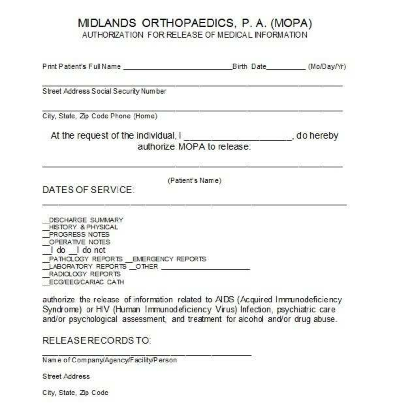textline: (40, 193, 349, 208), (40, 156, 345, 170), (40, 75, 344, 89), (40, 99, 344, 113), (40, 348, 255, 359), (181, 129, 296, 142), (122, 59, 234, 72), (160, 262, 254, 273), (263, 59, 307, 71), (42, 248, 52, 257), (127, 265, 139, 272), (41, 240, 50, 249), (123, 255, 133, 263), (40, 256, 50, 264), (68, 248, 78, 256), (40, 225, 50, 233), (40, 264, 51, 271), (42, 281, 51, 289), (41, 216, 49, 225), (41, 272, 51, 279), (41, 232, 50, 239)
